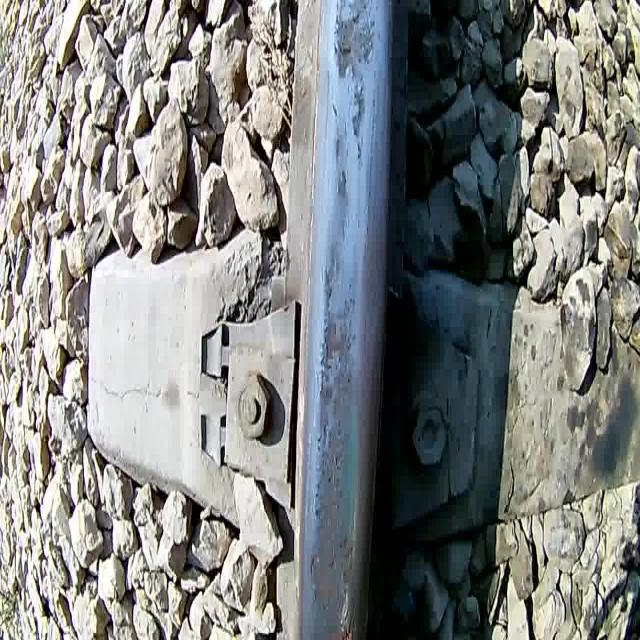Cracks: (339, 596, 360, 640)
Squats: (294, 1, 400, 640)
